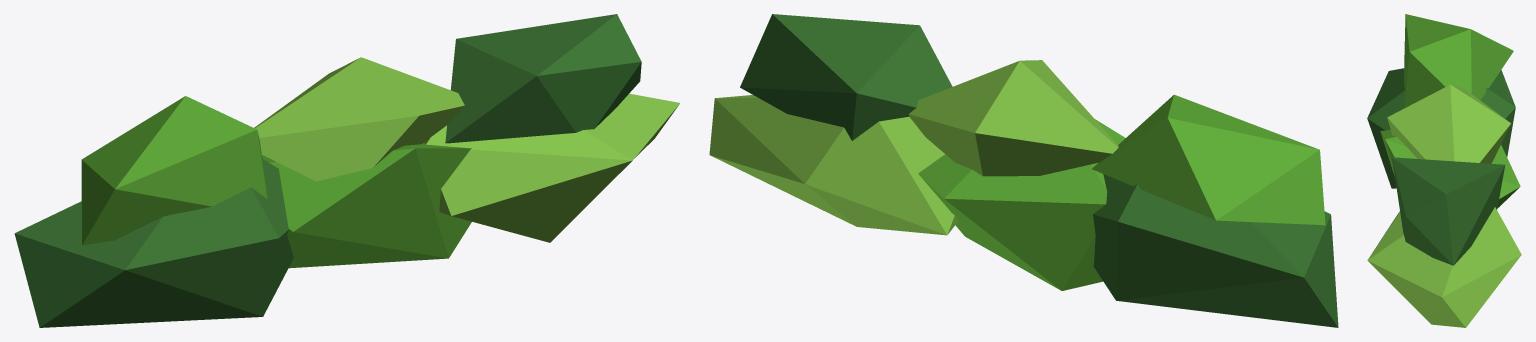
File: hedge_straight_1_lod2.glb
3 renders of one model, left to right at view 1: azimuth 30°, elevation 25°; view 2: azimuth 150°, elevation 25°; view 3: azimuth 270°, elevation 25°, orthographic. The views are drawn at different scales.
Parts seen in each view (by area): view 1: hedge_straight_1_lod2; view 2: hedge_straight_1_lod2; view 3: hedge_straight_1_lod2.
Boxes of the visible parts, x1,y1,x2,y2 form: hedge_straight_1_lod2: [14, 14, 679, 327]; hedge_straight_1_lod2: [709, 14, 1338, 327]; hedge_straight_1_lod2: [1367, 14, 1521, 327].
Size of the model in its own units: 4.9 by 1.62 by 1.32.
